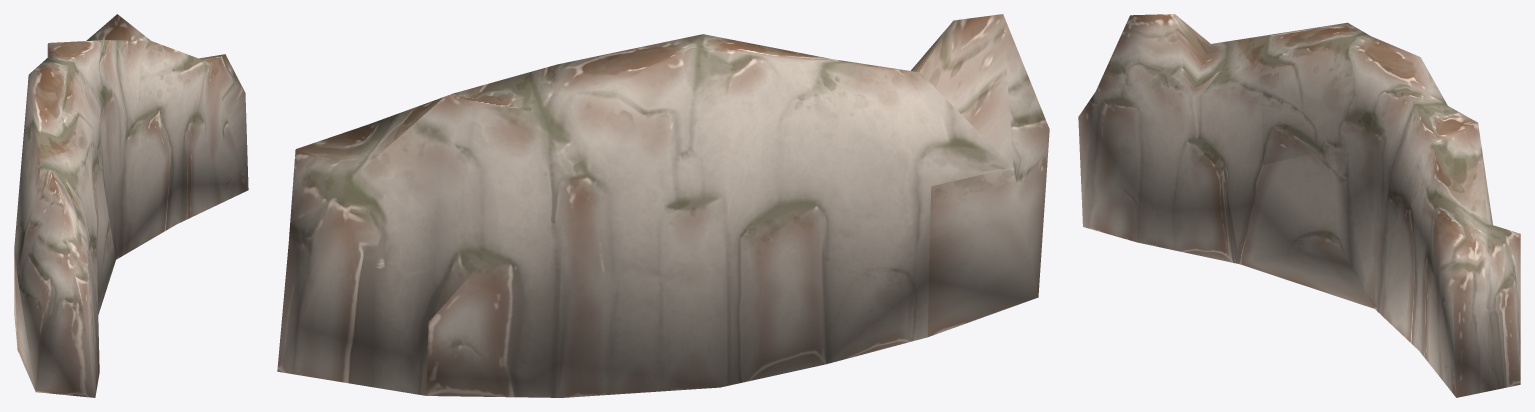
File: Rock Curved Wall 2.fbx
3 renders of one model, left to right at view 1: azimuth 30°, elevation 25°; view 2: azimuth 150°, elevation 25°; view 3: azimuth 270°, elevation 25°, orthographic. The views are drawn at different scales.
Parts seen in each view (by area): view 1: Rock_Curved_Wall_2; view 2: Rock_Curved_Wall_2; view 3: Rock_Curved_Wall_2.
Boxes of the visible parts, <box> form: Rock_Curved_Wall_2: <box>14,14,248,397</box>; Rock_Curved_Wall_2: <box>277,14,1049,397</box>; Rock_Curved_Wall_2: <box>1078,14,1520,397</box>.
Size of the model in its own units: 758864 by 438231 by 740609.
